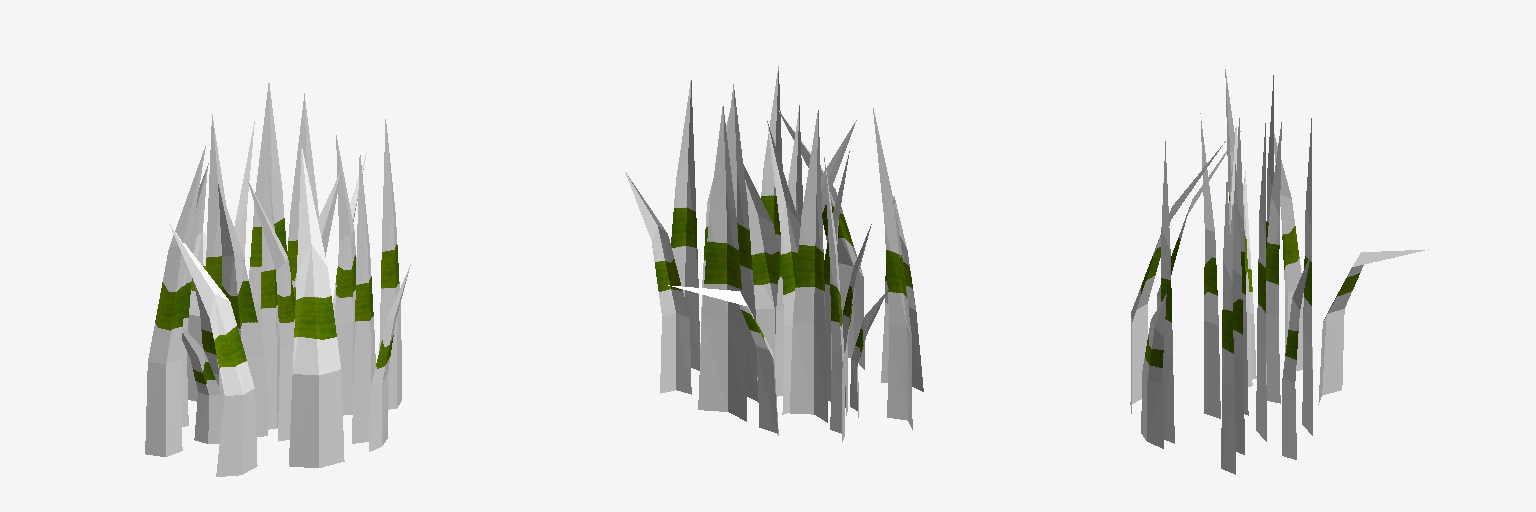
3 views of the same model, side by side, from view 1: azimuth 30°, elevation 25°; view 2: azimuth 150°, elevation 25°; view 3: azimuth 270°, elevation 25° (orthographic).
Visible parts, largest first — view 1: grass1.002, grass1.012, grass1.003, grass1.005, grass1.018, grass1.014, grass1.019, grass1.017, grass1.011, grass1.004, grass1.007, grass1.009 (+7 smaller); view 2: grass1.004, grass1.010, grass1.012, grass1.013, grass1.019, grass1.008, grass_mani, grass1.016, grass1.015, grass1.002, grass1.001, grass1.011 (+6 smaller); view 3: grass1.017, grass1.016, grass1.019, grass1.001, grass1.009, grass1.018, grass1.002, grass_mani, grass1.013, grass1.015, grass1.014, grass1.004 (+5 smaller).
Part boxes in pixels (left/top/right/bottom): grass1.002: left=289, top=148, right=344, bottom=467; grass1.012: left=145, top=146, right=205, bottom=456; grass1.003: left=169, top=224, right=257, bottom=476; grass1.005: left=218, top=183, right=267, bottom=436; grass1.018: left=352, top=155, right=375, bottom=443; grass1.014: left=335, top=135, right=355, bottom=415; grass1.019: left=379, top=119, right=401, bottom=409; grass1.017: left=247, top=179, right=295, bottom=441; grass1.011: left=260, top=137, right=279, bottom=429; grass1.004: left=249, top=83, right=286, bottom=328; grass1.007: left=182, top=328, right=222, bottom=443; grass1.009: left=369, top=265, right=410, bottom=451; grass1.004: left=698, top=106, right=746, bottom=421; grass1.010: left=790, top=110, right=827, bottom=422; grass1.012: left=873, top=108, right=912, bottom=429; grass1.013: left=625, top=172, right=691, bottom=394; grass1.019: left=671, top=80, right=699, bottom=370; grass1.008: left=743, top=164, right=779, bottom=380; grass_mani: left=727, top=84, right=757, bottom=401; grass1.016: left=767, top=121, right=799, bottom=414; grass1.015: left=824, top=157, right=844, bottom=441; grass1.002: left=776, top=107, right=864, bottom=369; grass1.001: left=668, top=285, right=778, bottom=435; grass1.011: left=775, top=105, right=802, bottom=396; grass1.017: left=1200, top=113, right=1220, bottom=418; grass1.016: left=1266, top=122, right=1281, bottom=403; grass1.019: left=1221, top=182, right=1235, bottom=474; grass1.001: left=1318, top=249, right=1428, bottom=404; grass1.009: left=1141, top=294, right=1166, bottom=448; grass1.018: left=1161, top=141, right=1174, bottom=443; grass1.002: left=1130, top=141, right=1225, bottom=413; grass_mani: left=1256, top=123, right=1266, bottom=441; grass1.013: left=1282, top=255, right=1310, bottom=459; grass1.015: left=1274, top=134, right=1303, bottom=370; grass1.014: left=1232, top=164, right=1244, bottom=454; grass1.004: left=1302, top=118, right=1312, bottom=435.
Bounding box in the file's own units: 1.07 × 1.26 × 1.08.
1 materials, 1 textured.